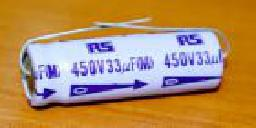Electrolytic-Capacitor: (17, 12, 234, 109)
